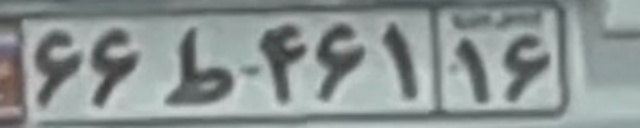1: (382, 23, 418, 99), (454, 36, 487, 104)
4: (260, 22, 307, 104)
6: (314, 21, 367, 102), (88, 27, 139, 107), (30, 29, 78, 108), (502, 32, 551, 102)
taa: (161, 25, 235, 106)
